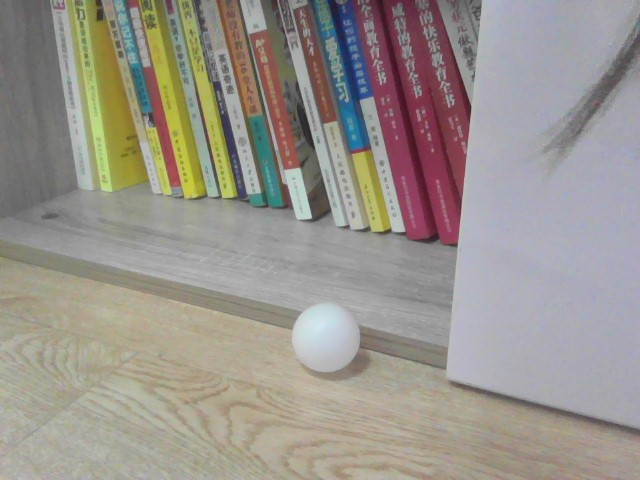ball: (291, 299, 356, 374)
